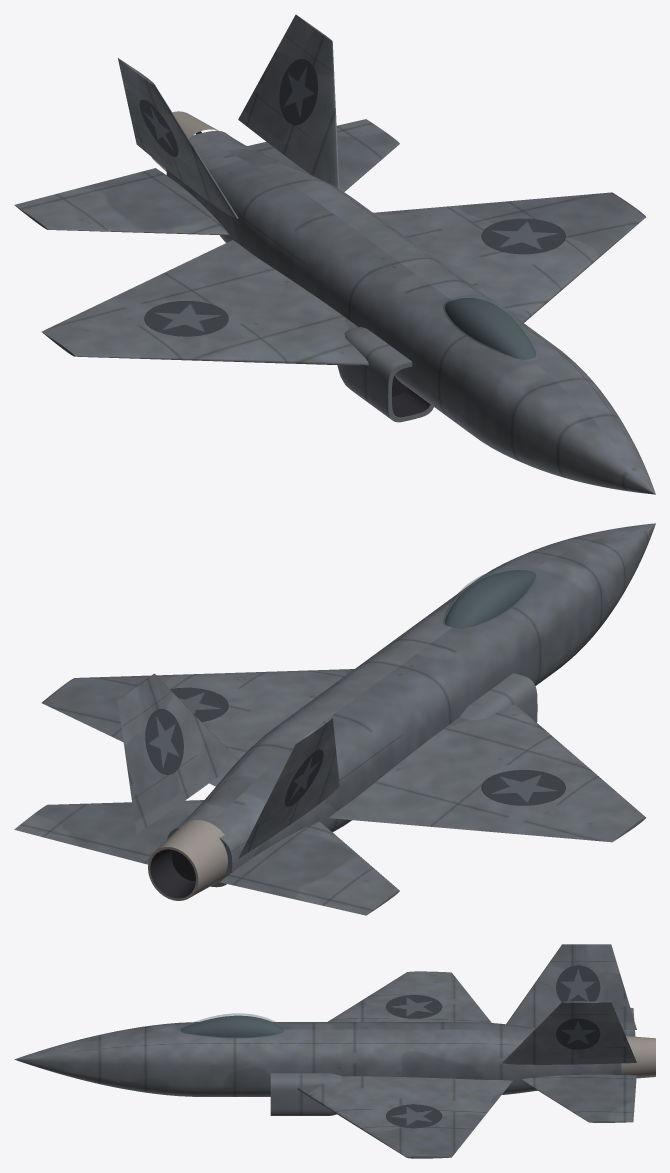
3 views of the same model, one above another, from view 1: azimuth 30°, elevation 25°; view 2: azimuth 150°, elevation 25°; view 3: azimuth 270°, elevation 25° (orthographic). The views are drawn at different scales.
Visible parts, largest first — view 1: Fuselage, Wing0_R, Wing0_L, Htail1_R, Fin2_L, Fin2_R, Intake_R, Canopy, Htail1_L, Cockpit, Decal_Wing_U_L, Decal_Wing_U_R (+2 smaller); view 2: Fuselage, Wing0_R, Wing0_L, Htail1_R, Fin2_L, Htail1_L, Nozzle, Fin2_R, Canopy, Cockpit, Decal_Wing_U_R, Intake_R (+3 smaller); view 3: Fuselage, Wing0_L, Fin2_L, Fin2_R, Wing0_R, Htail1_L, Intake_L, Canopy, Cockpit, Decal_Fin_a_R, Nozzle, Decal_Fin_b_L (+2 smaller).
Boxes of the visible parts, x1,y1,x2,y2 form: Fuselage: (166,130,655,494); Wing0_R: (41,240,368,365); Wing0_L: (373,192,645,322); Htail1_R: (14,168,228,235); Fin2_L: (238,14,339,189); Fin2_R: (118,58,238,218); Intake_R: (337,327,433,422); Canopy: (443,295,538,361); Htail1_L: (247,119,399,191); Cockpit: (445,298,536,359); Decal_Wing_U_L: (481,218,565,254); Decal_Wing_U_R: (144,301,228,336); Fuselage: (167,523,655,887); Wing0_R: (329,704,645,842); Wing0_L: (41,669,354,786); Htail1_R: (220,821,399,915); Fin2_L: (118,673,238,833); Htail1_L: (14,800,203,864); Nozzle: (148,820,227,900); Fin2_R: (238,717,339,858); Canopy: (443,568,538,629); Cockpit: (445,570,536,628); Decal_Wing_U_R: (481,770,565,805); Intake_R: (460,673,537,722); Fuselage: (14,1022,621,1096); Wing0_L: (297,1076,512,1158); Fin2_L: (502,1001,636,1064); Fin2_R: (506,944,636,1029); Wing0_R: (328,971,491,1022); Htail1_L: (521,1074,636,1122); Intake_L: (270,1073,342,1115); Canopy: (178,1013,284,1038); Cockpit: (180,1015,283,1037); Decal_Fin_a_R: (556,965,600,1001); Nozzle: (621,1036,655,1078); Decal_Fin_b_L: (556,1018,600,1049).
Bounding box in the file's own units: 10.7 × 3.3 × 15.67.
6 materials, 2 textured.
